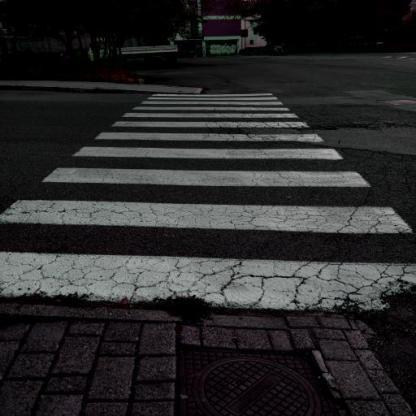crosswalk: (36, 143, 382, 191), (115, 104, 305, 122)
